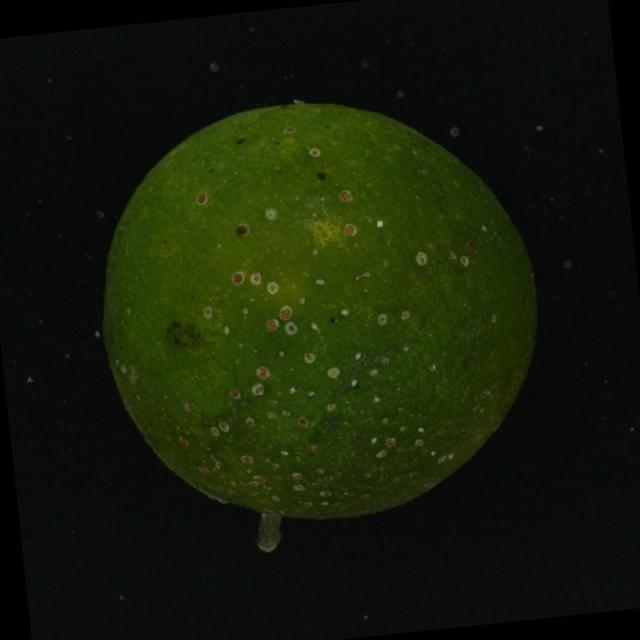grenning: (86, 74, 551, 575)
